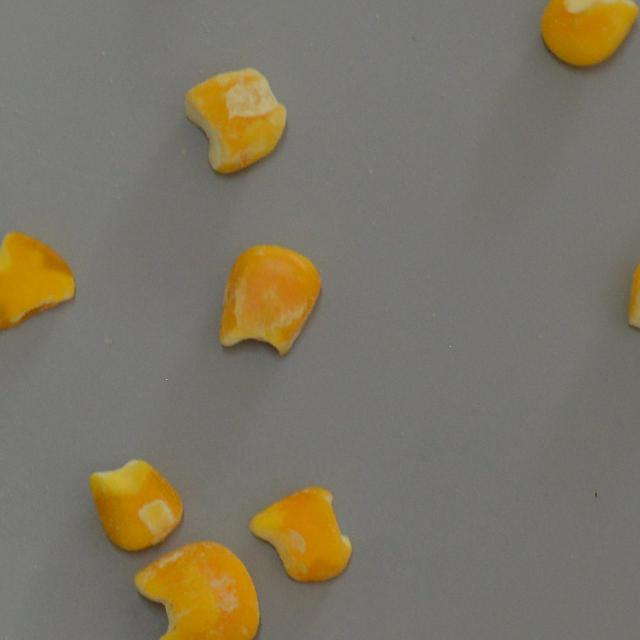dañado: (214, 240, 324, 362), (178, 65, 291, 178), (247, 484, 354, 586), (84, 455, 185, 554), (0, 229, 80, 334), (536, 0, 640, 72)
punto_negro: (127, 538, 265, 640), (625, 252, 640, 354)
